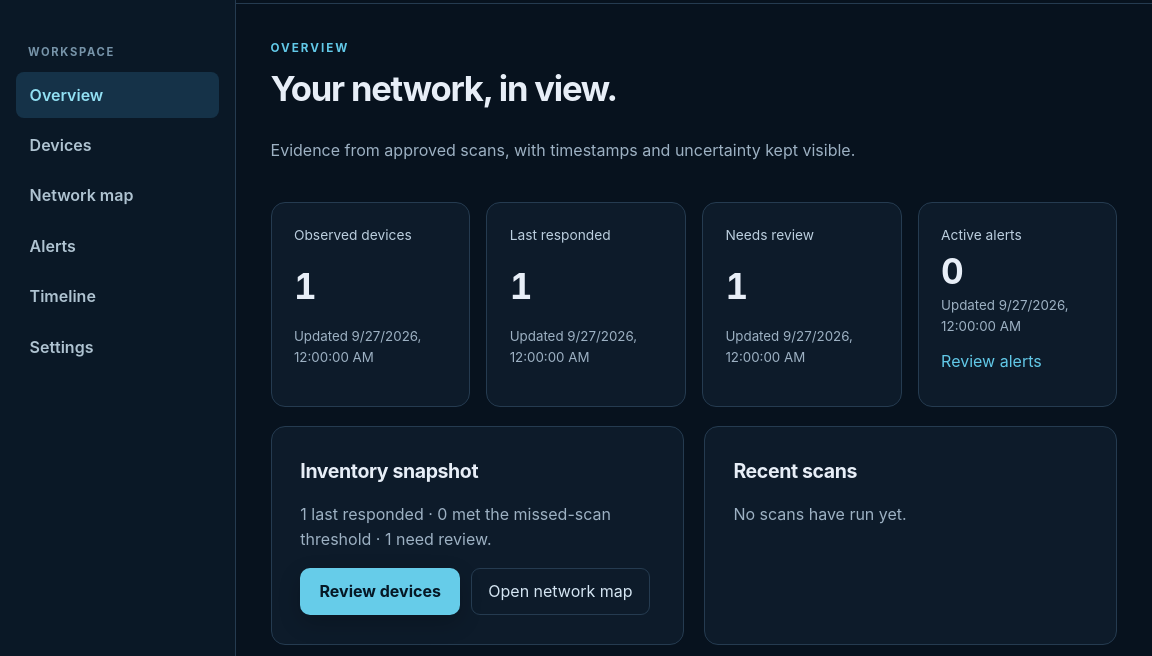
Test case: overview and keyboard map list show observed data and inferred provenance
Expected: the text "Observed devices" is shown, [294, 227, 412, 243]
Expected: the heading "Inventory snapshot" is shown, [300, 459, 478, 483]
Click the button "Network map".
click(118, 196)  # box [16, 173, 219, 219]
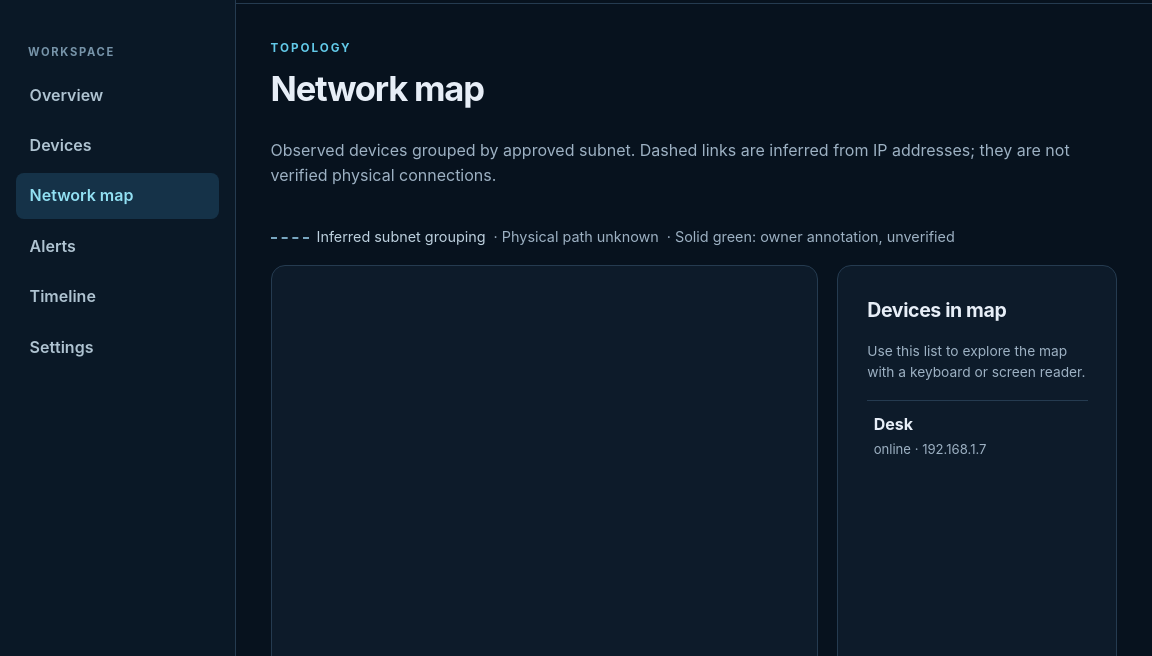
Expected: the heading "Devices in map" is shown, [867, 298, 1006, 322]
Expected: the text "Dashed links are inferred" is shown, [270, 140, 1070, 185]
Click the button "Desk online · 192.168.1.7".
click(978, 436)  # box [867, 401, 1088, 471]
(page scrolled)
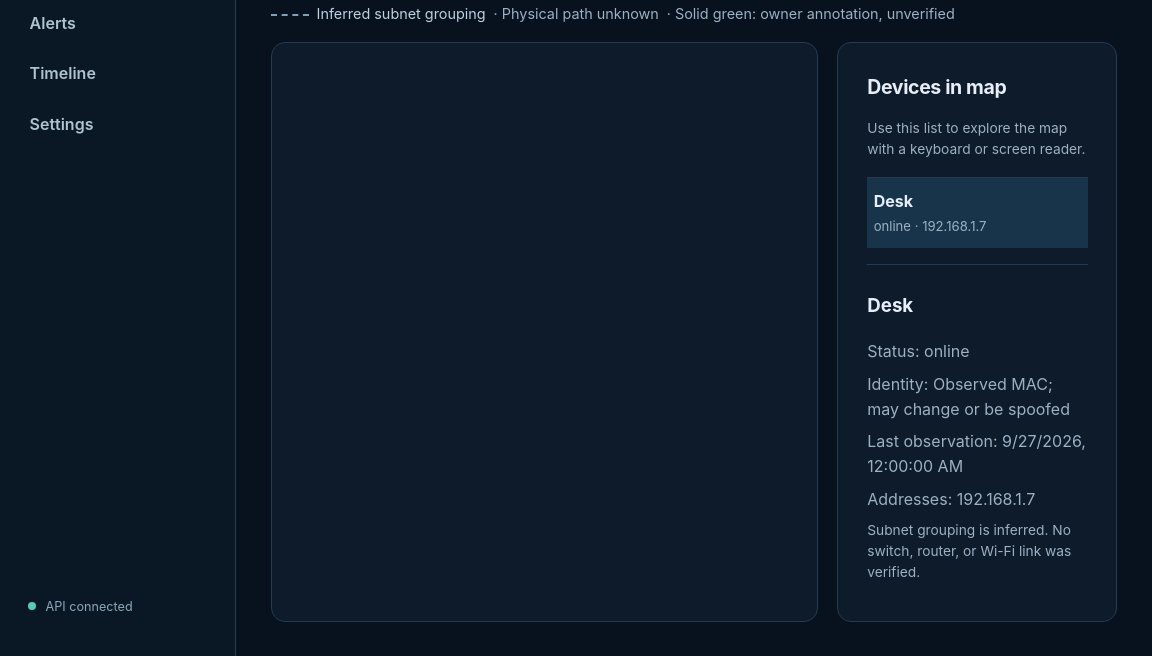
Expected: the heading "Desk" is shown, [867, 294, 913, 317]
Expected: the text "No switch, router, or Wi-Fi link was verified" is shown, [867, 522, 1071, 580]
